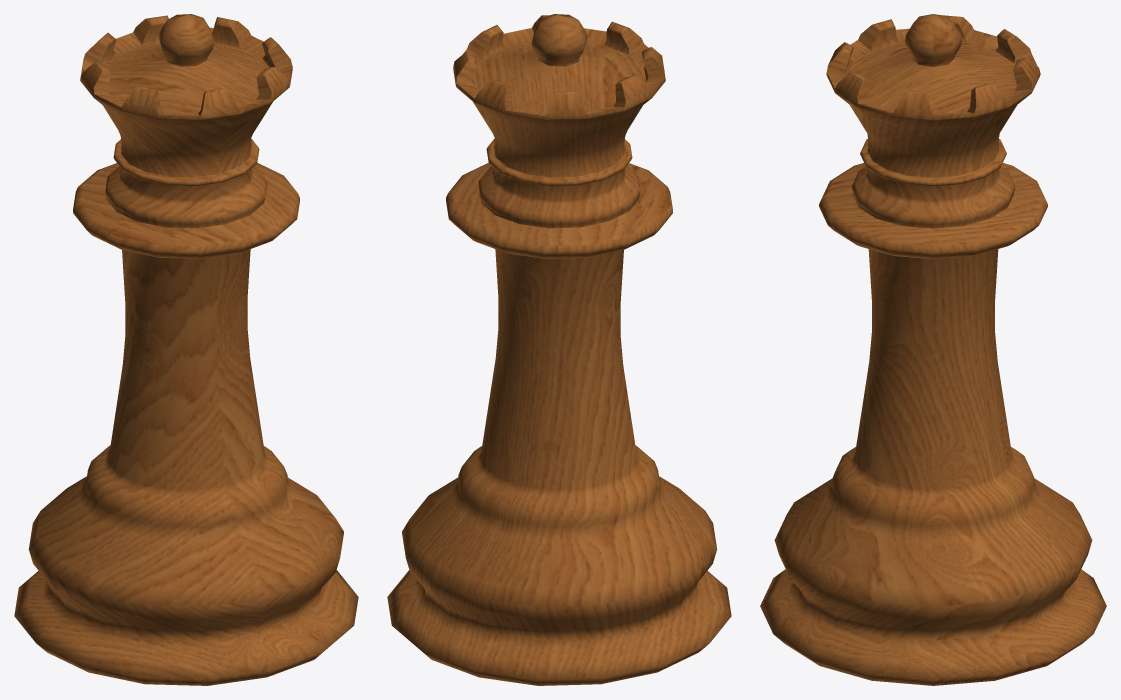
Rendered from SM_BlackQueen.fbx.
The picture shows the model from 3 angles, left to right: view 1: azimuth 30°, elevation 25°; view 2: azimuth 150°, elevation 25°; view 3: azimuth 270°, elevation 25°; orthographic projection.
Visible parts, largest first — view 1: SM_BlackQueen; view 2: SM_BlackQueen; view 3: SM_BlackQueen.
Part boxes in pixels (x1=…): SM_BlackQueen: x1=14, y1=14, x2=358, y2=685; SM_BlackQueen: x1=387, y1=14, x2=731, y2=685; SM_BlackQueen: x1=760, y1=14, x2=1106, y2=685.
Bounding box in the file's own units: 8.61 × 16.74 × 8.61.
